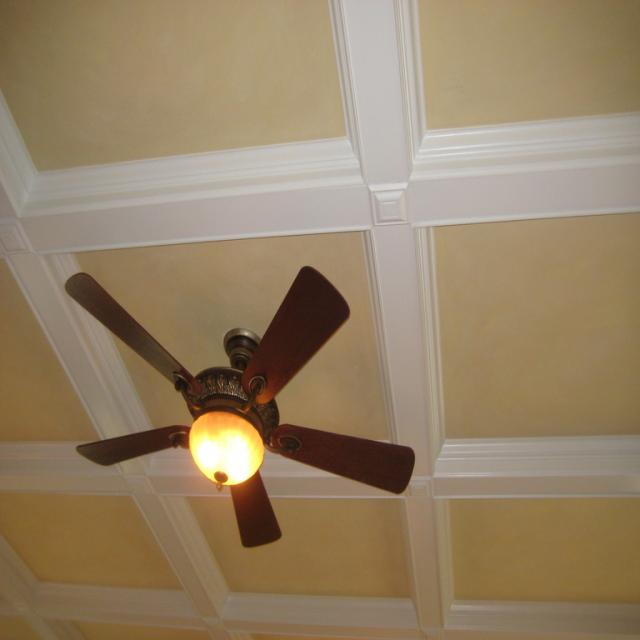Bulb: (64, 266, 415, 548)
